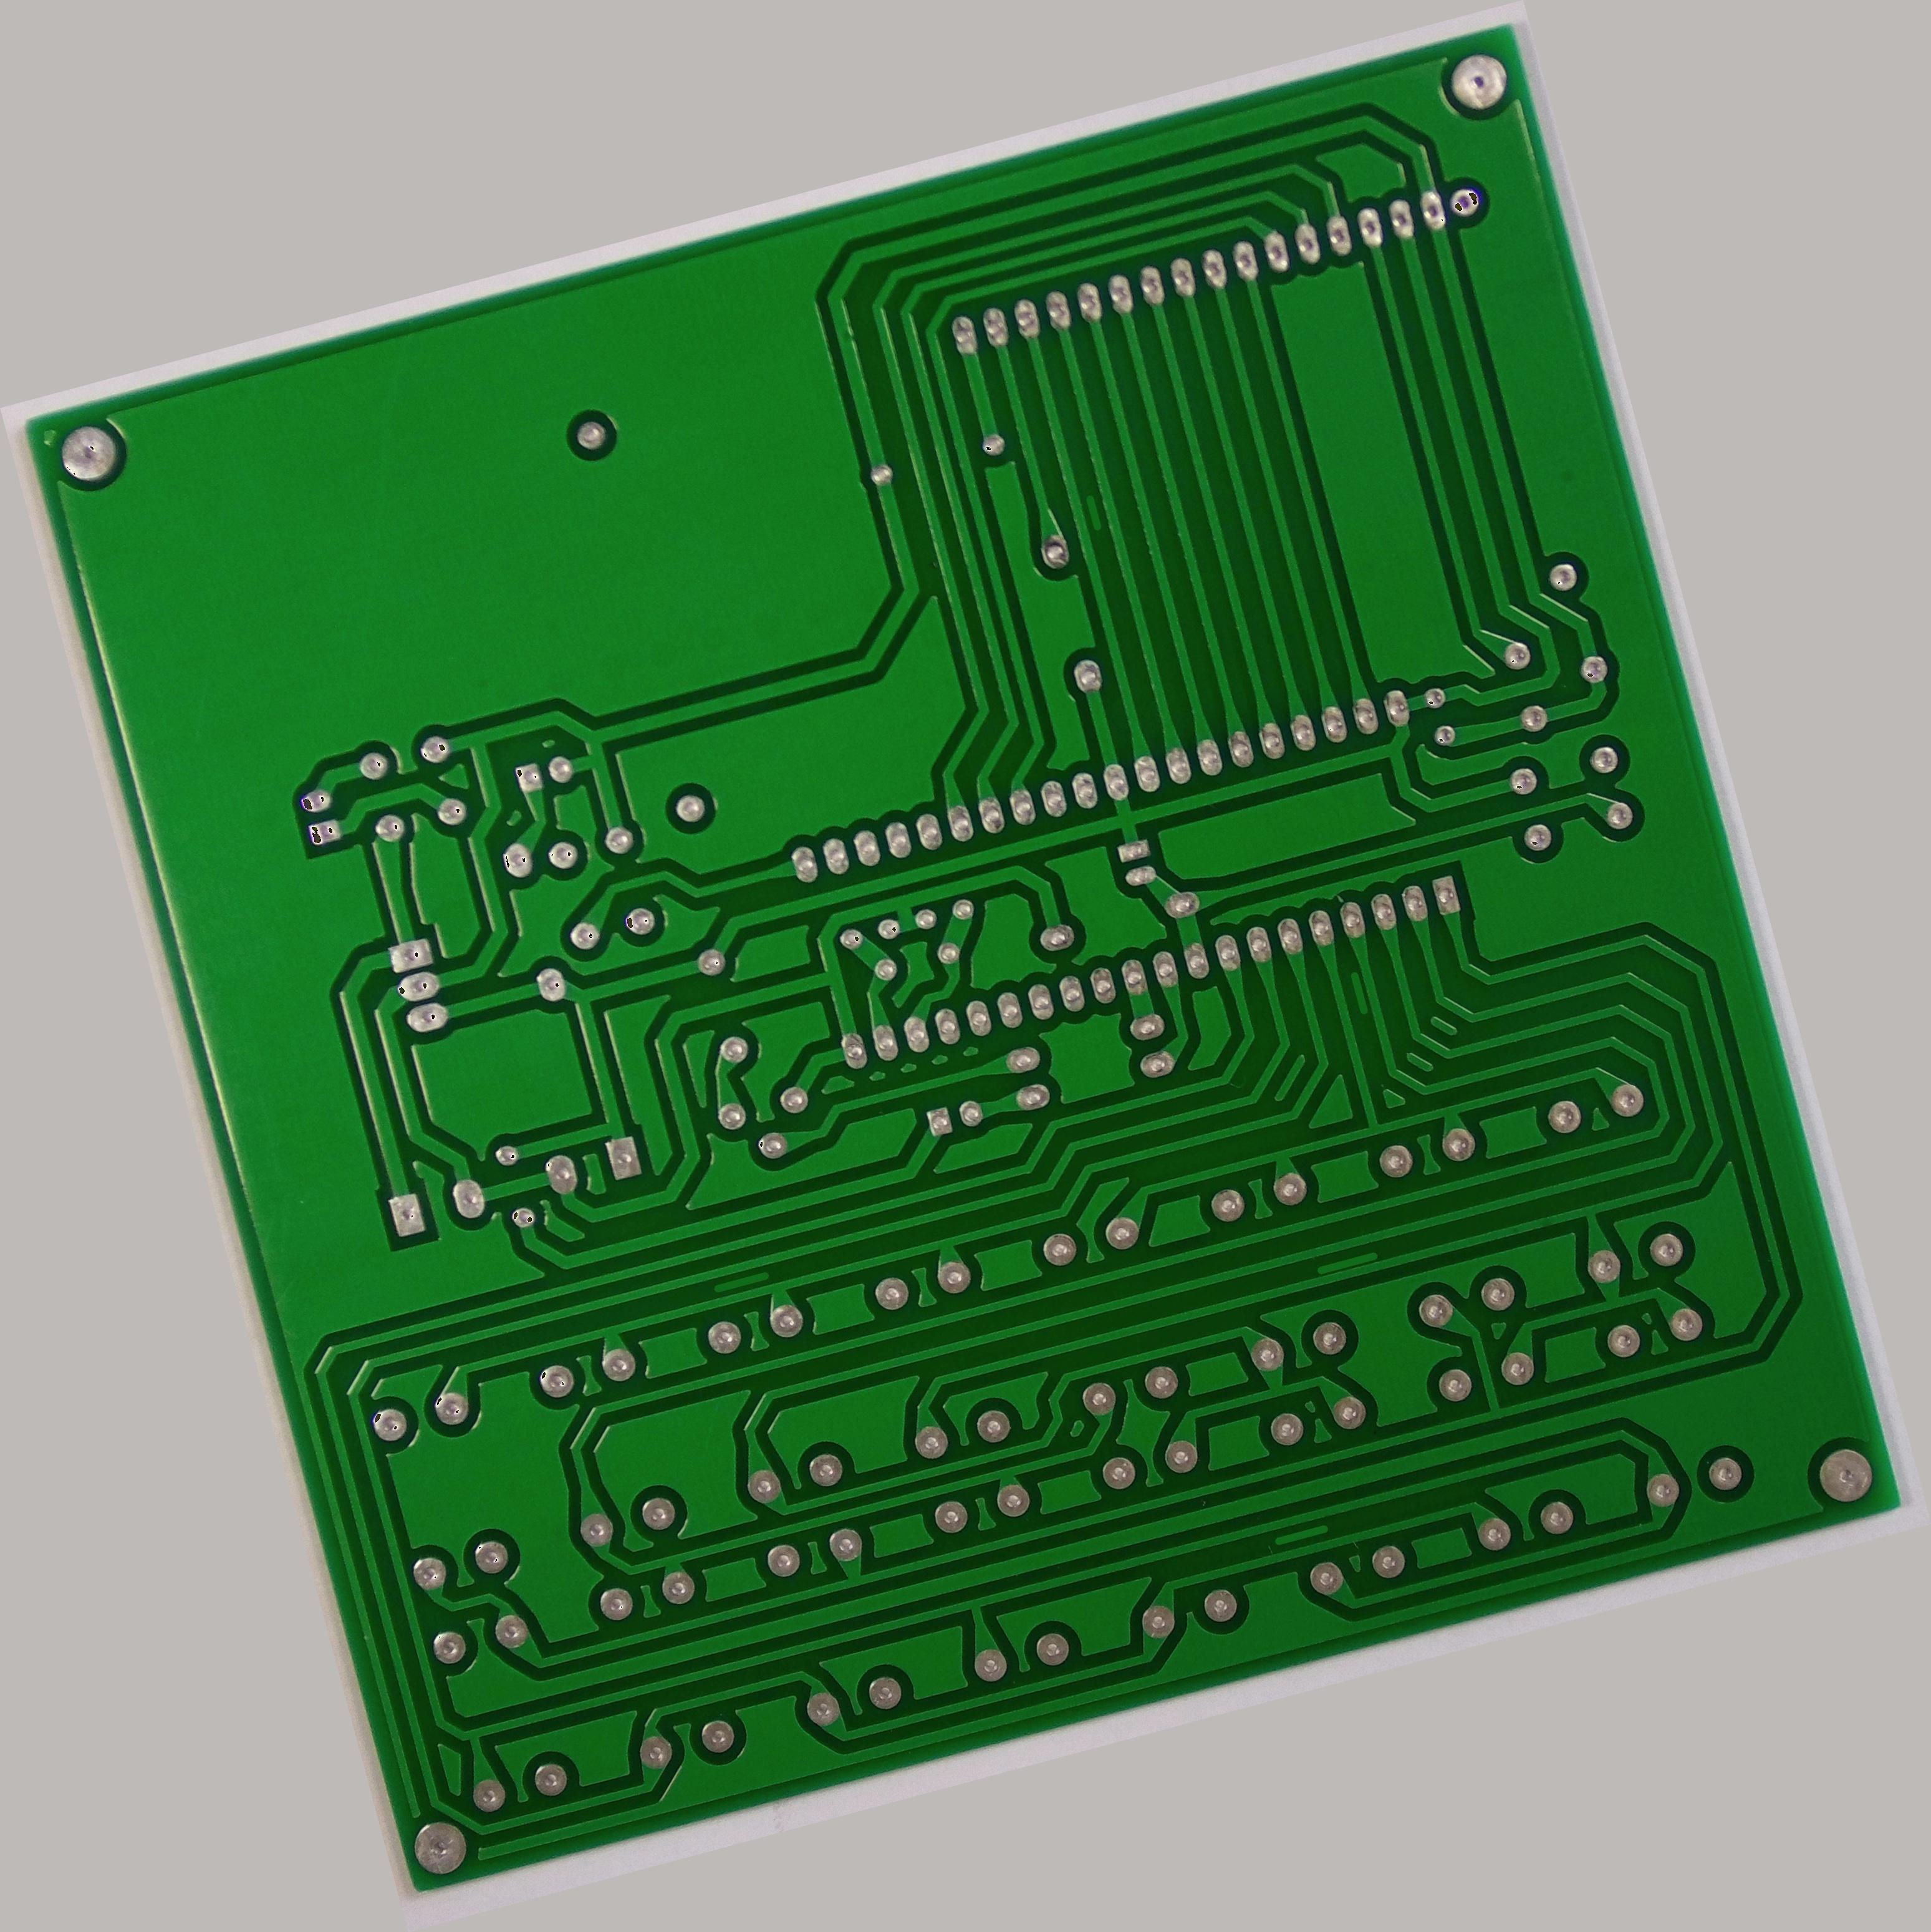spurious_copper: (1303, 1238, 1386, 1288), (1261, 1511, 1340, 1560), (702, 1258, 778, 1304), (1339, 959, 1378, 1026), (1073, 485, 1118, 538)
